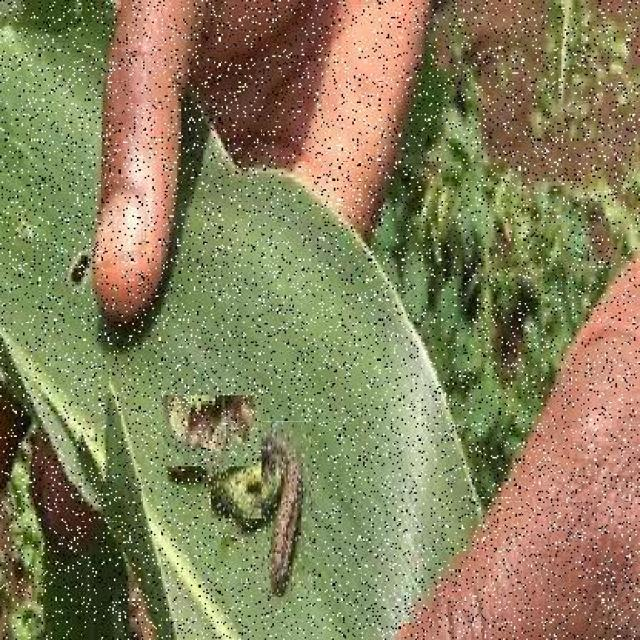Plaga: (261, 421, 313, 598), (163, 395, 261, 469), (212, 452, 284, 525)
